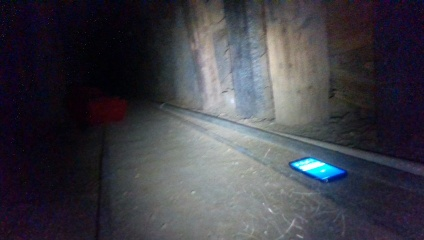backpack: (76, 96, 132, 125)
cellphone: (288, 155, 348, 185)
